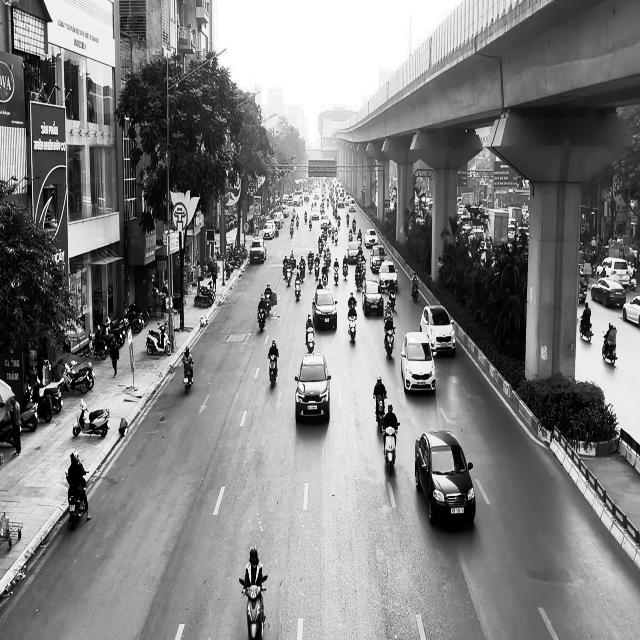car: (414, 428, 476, 526), (294, 352, 332, 422), (401, 331, 436, 394), (419, 304, 456, 357), (312, 287, 338, 330), (362, 281, 383, 316)
motorbike: (242, 574, 268, 639), (72, 398, 110, 438), (64, 468, 88, 528), (145, 322, 172, 356), (382, 423, 399, 475), (602, 327, 617, 365), (373, 394, 387, 431), (383, 327, 395, 359), (183, 360, 194, 394), (579, 316, 593, 342), (268, 354, 278, 388), (347, 313, 357, 342), (257, 305, 267, 331), (305, 327, 315, 352), (411, 279, 418, 302)
